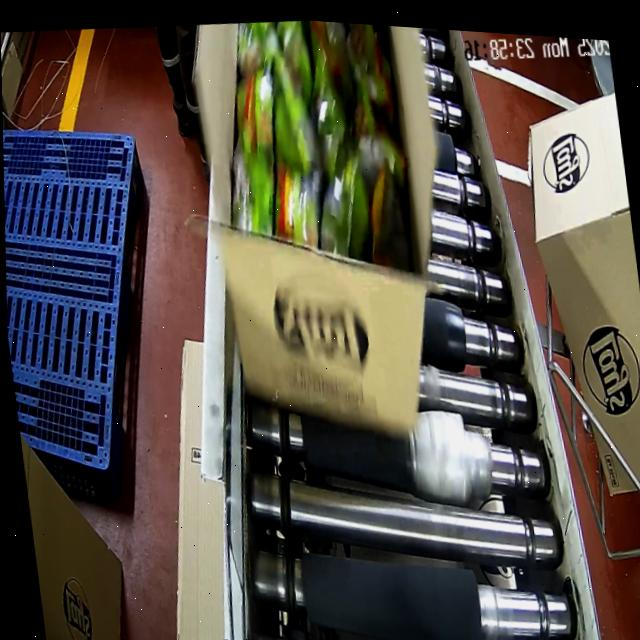YOGURT_HERB: (227, 15, 412, 258)
